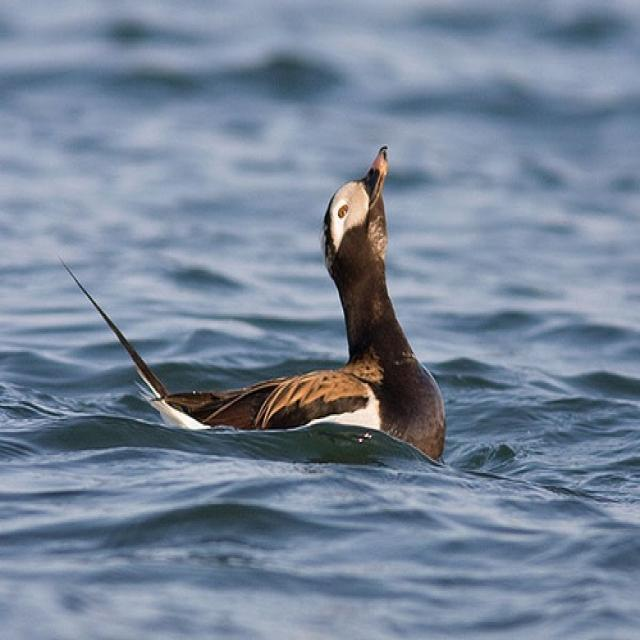bird: (59, 138, 448, 472)
